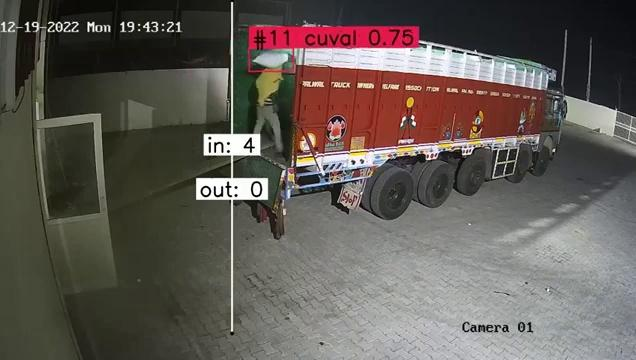karung: (251, 50, 291, 70)
